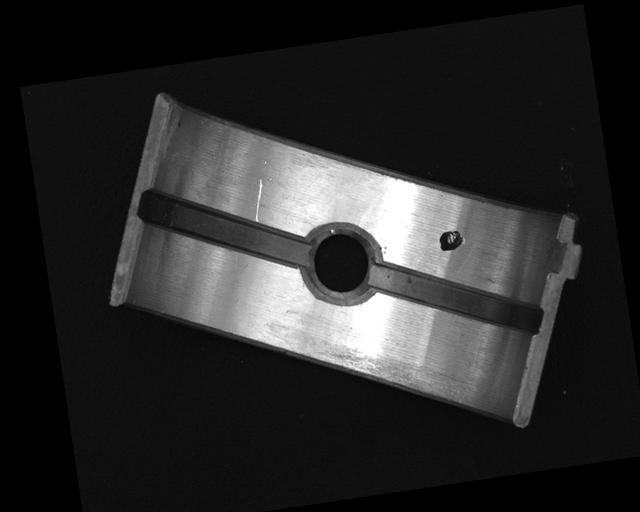blot: (437, 228, 467, 252)
gap: (139, 168, 310, 289), (368, 241, 544, 354)
hole: (299, 217, 384, 310)
nick: (249, 178, 269, 223)
scratch: (307, 329, 463, 423)
